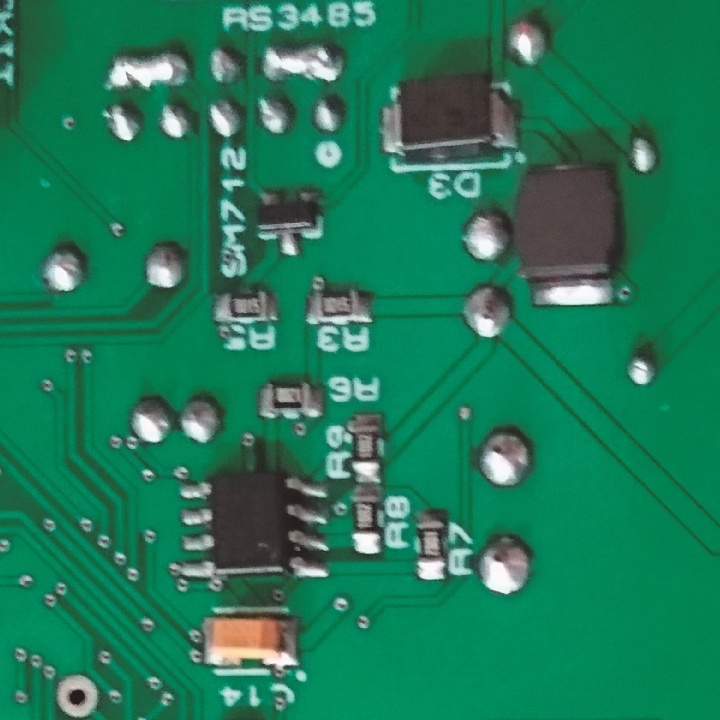F: (54, 675, 98, 718)
P: (104, 49, 193, 93), (259, 43, 348, 84)
